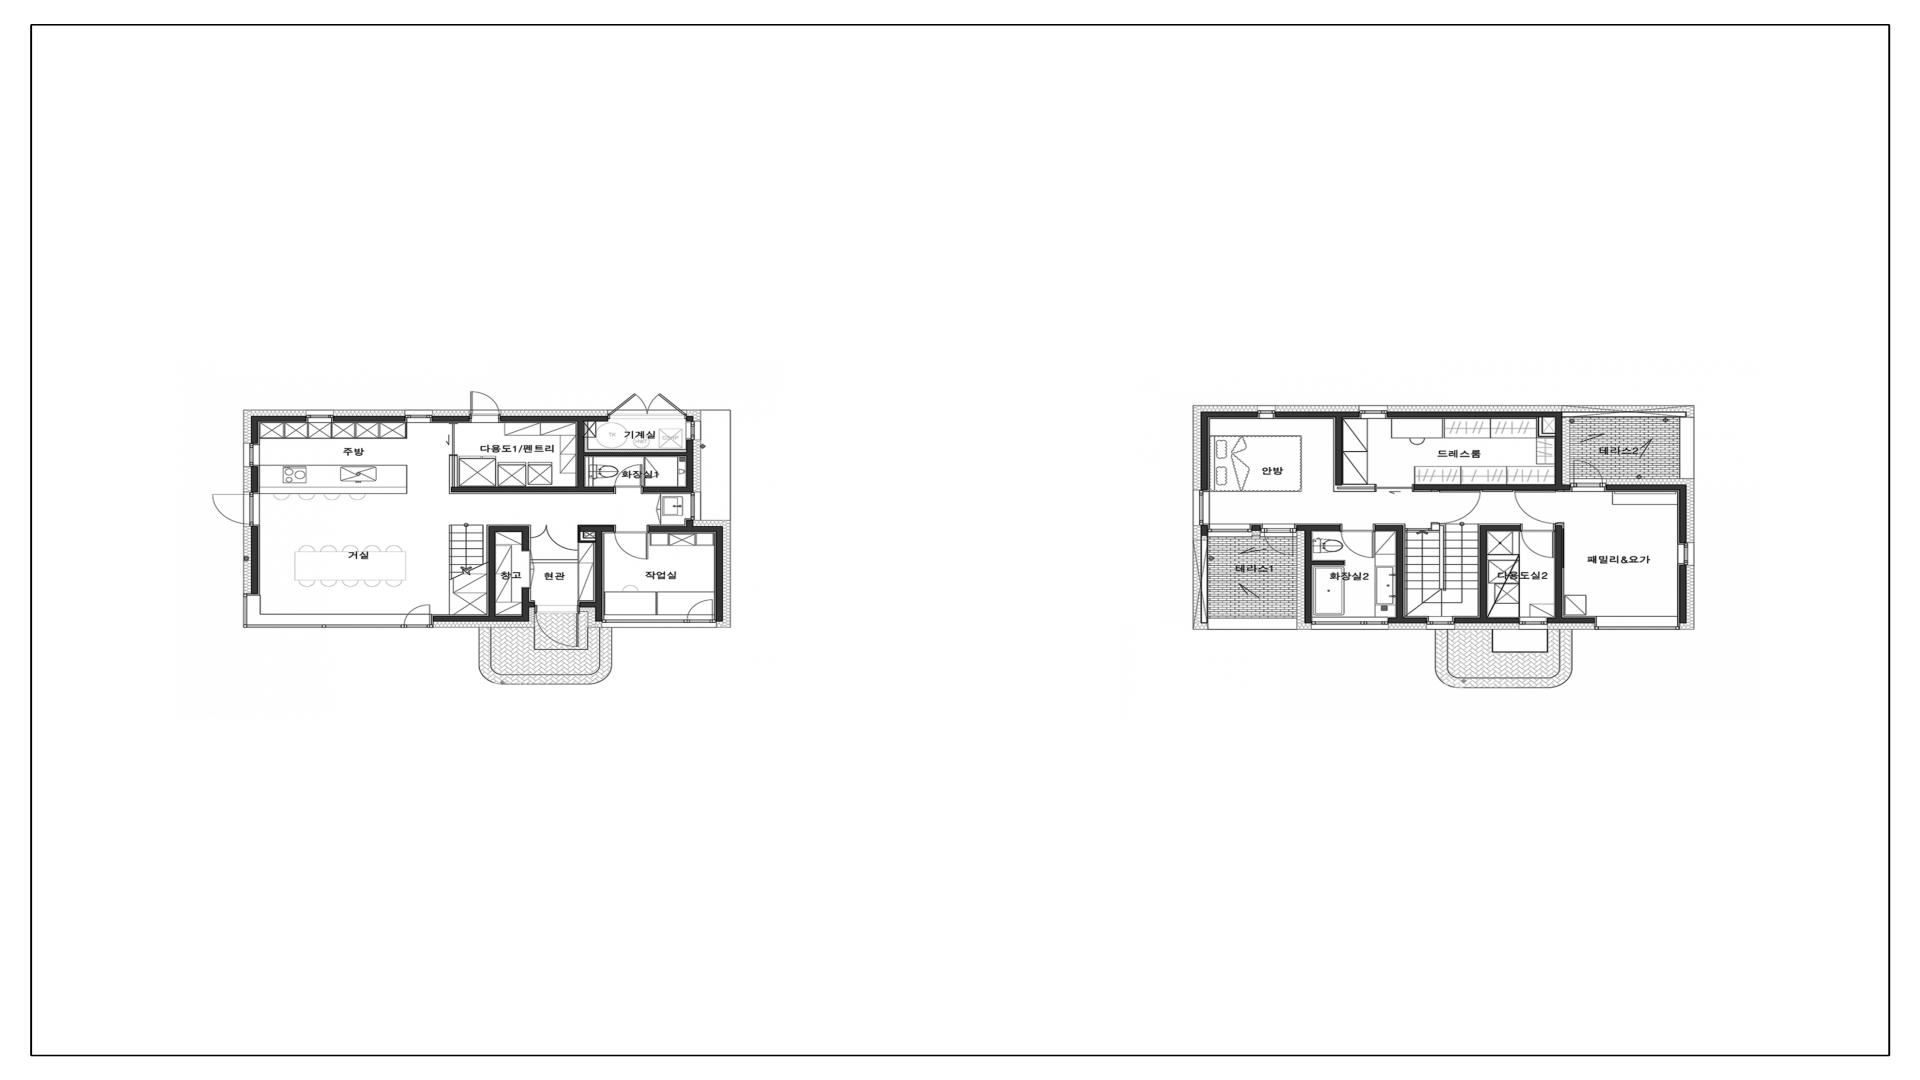door: (608, 393, 686, 422), (534, 605, 579, 647), (1431, 491, 1481, 524), (1514, 491, 1564, 524), (529, 525, 578, 551), (1520, 524, 1555, 558), (1340, 524, 1374, 558), (615, 525, 649, 559), (615, 464, 642, 493), (448, 423, 459, 487), (1333, 484, 1414, 492)
wall: (1387, 411, 1563, 418), (1208, 618, 1298, 630), (1414, 484, 1571, 491), (1679, 418, 1695, 479), (451, 487, 615, 492), (1563, 411, 1687, 418), (1395, 525, 1403, 617), (1480, 525, 1487, 617), (1555, 525, 1563, 617), (595, 531, 603, 621), (501, 415, 608, 422), (1200, 535, 1208, 624), (488, 531, 496, 616), (1335, 417, 1344, 485), (251, 526, 260, 595), (1304, 531, 1311, 624), (716, 531, 723, 621), (1606, 484, 1687, 491), (1555, 418, 1563, 484), (1201, 411, 1208, 489), (433, 616, 522, 621), (1679, 564, 1687, 624), (334, 415, 405, 422), (1275, 411, 1360, 417), (1455, 617, 1519, 624), (578, 422, 584, 487), (1679, 491, 1687, 543), (686, 439, 694, 492), (584, 452, 686, 456), (649, 526, 723, 531), (1208, 411, 1257, 418), (1547, 617, 1594, 624), (260, 415, 306, 422), (1296, 525, 1340, 531), (251, 415, 260, 443), (1389, 617, 1427, 624), (578, 525, 615, 531), (433, 415, 469, 422), (251, 467, 260, 492), (642, 487, 686, 492), (1487, 525, 1520, 531), (522, 588, 529, 621), (521, 526, 529, 551), (1311, 560, 1345, 566), (488, 526, 521, 531), (1374, 525, 1395, 531), (1406, 527, 1431, 531), (579, 601, 595, 607), (1538, 418, 1543, 433), (1201, 525, 1208, 535), (1538, 433, 1555, 436), (1251, 525, 1261, 531), (1431, 524, 1440, 530), (686, 520, 694, 526), (529, 601, 535, 608), (686, 415, 694, 421), (580, 541, 596, 543), (578, 531, 580, 543)
window: (243, 593, 404, 628), (211, 492, 260, 526), (1594, 616, 1680, 630), (1569, 460, 1606, 492), (1261, 524, 1296, 555), (1311, 617, 1389, 630), (469, 392, 501, 421), (404, 604, 433, 628), (687, 599, 716, 622), (603, 615, 687, 622), (1192, 489, 1209, 525), (1208, 524, 1251, 537), (243, 443, 260, 467), (1427, 616, 1455, 630), (1360, 405, 1387, 419), (1519, 616, 1547, 630), (1677, 543, 1695, 564), (306, 410, 334, 422), (405, 410, 433, 422), (686, 421, 702, 439), (691, 492, 702, 520), (1257, 405, 1275, 419)
